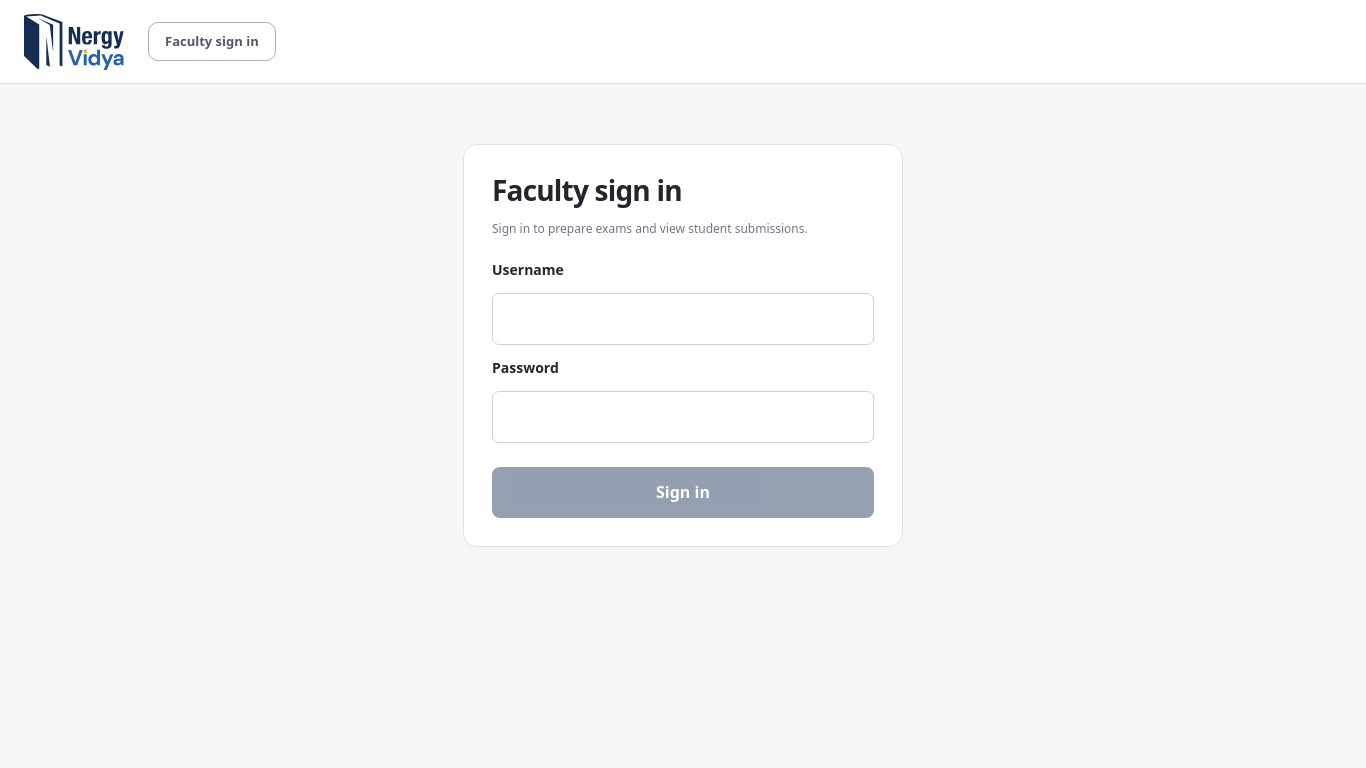
Test: Faculty sign-in UI › does not request private records until signed in, displays the profile and refresh text, and returns to sign-in after logout
Type "teacher" into the field labelled "Username".
click(683, 319); type("teacher")  # box top-left (492, 293), bottom-right (874, 345)
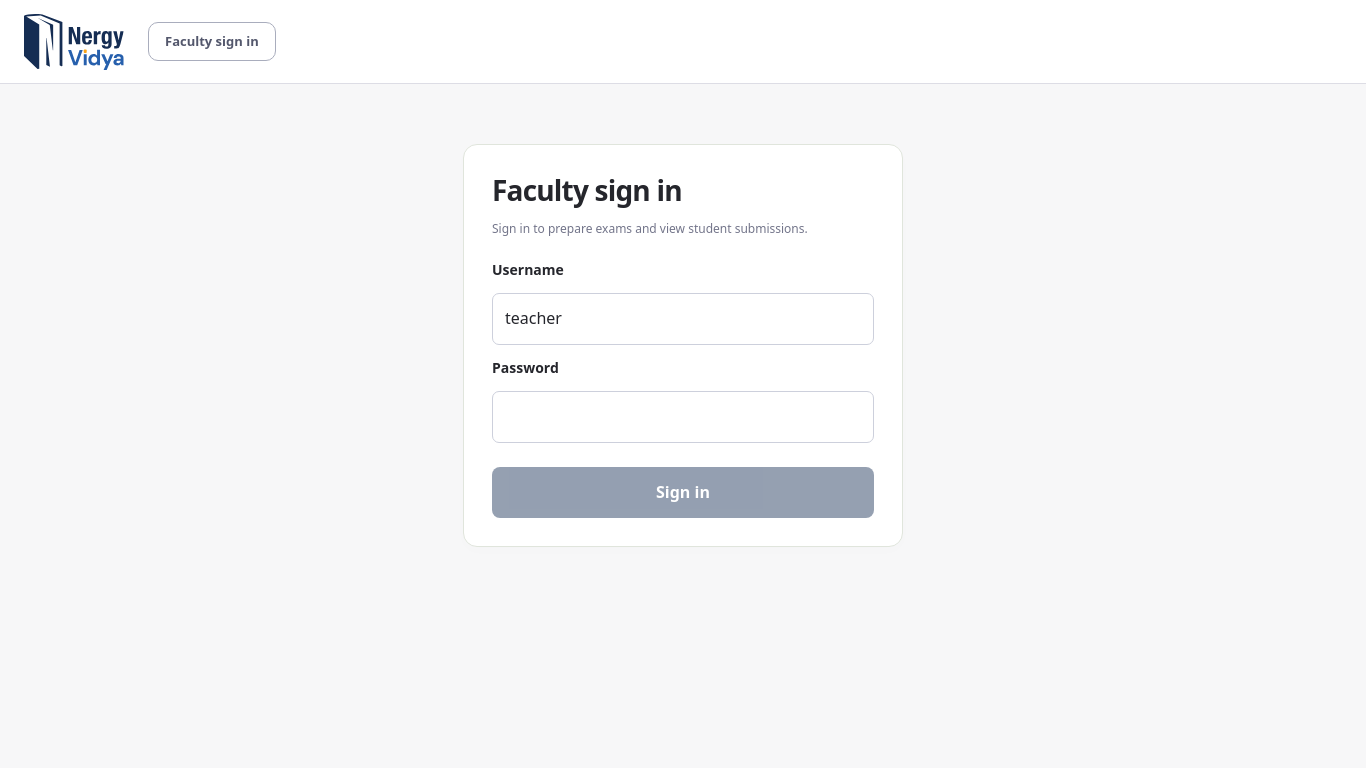
Type "test-password" into the password field labelled "Password".
click(683, 417); type("test-password")  # box top-left (492, 391), bottom-right (874, 443)
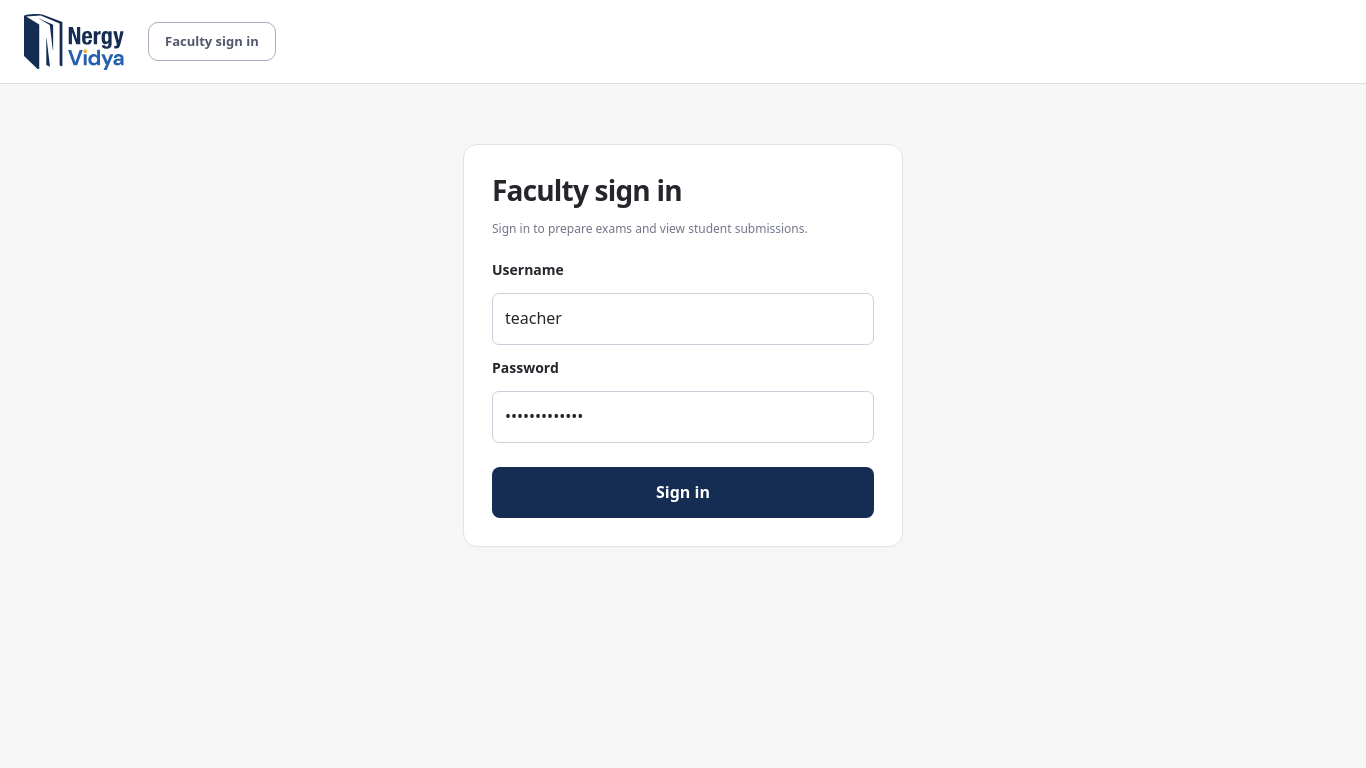
Click the button "Sign in".
click(683, 492)  # box top-left (492, 467), bottom-right (874, 518)
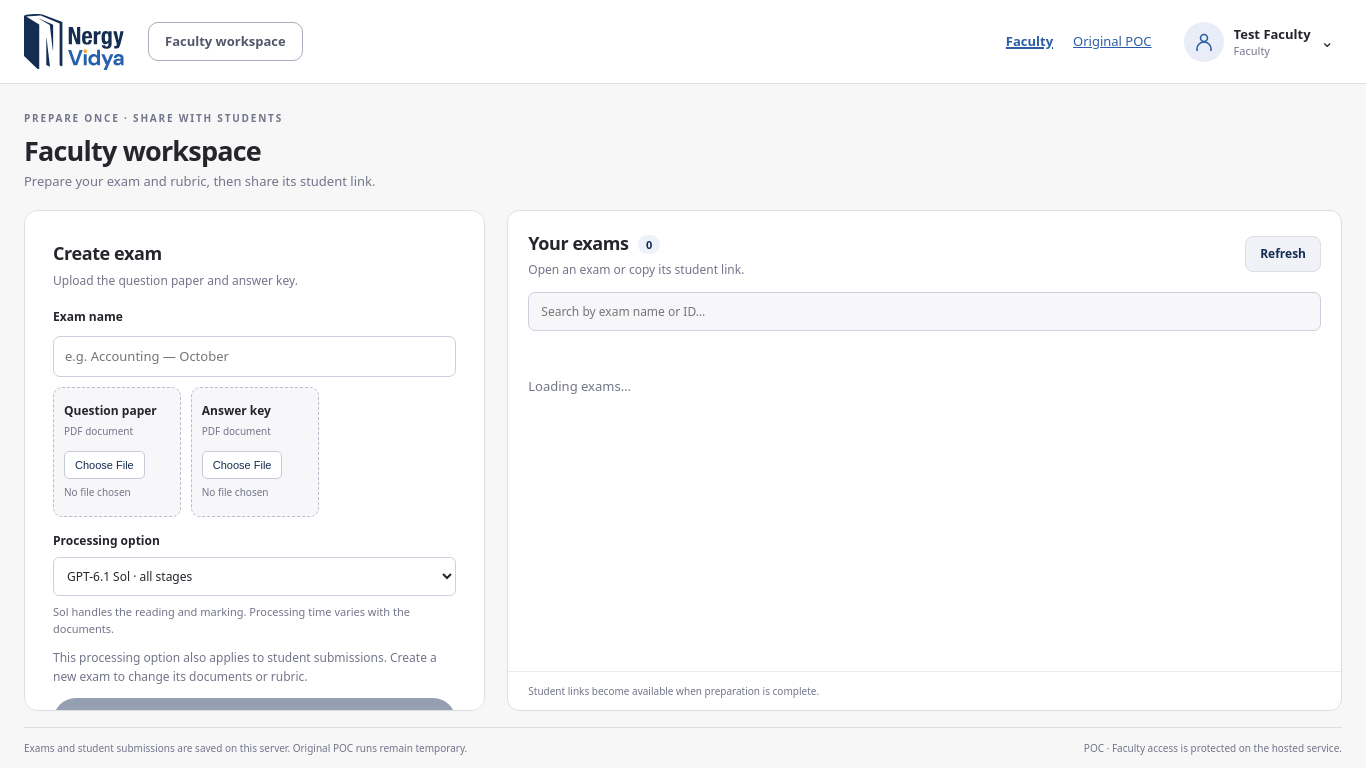
Now the heading "Faculty workspace" is shown, box top-left (24, 132), bottom-right (261, 169)
Now the button with aria-label "Refresh exams" reads "Refresh"
Click the button with aria-label "Refresh exams".
click(1283, 254)  # box top-left (1245, 236), bottom-right (1321, 272)
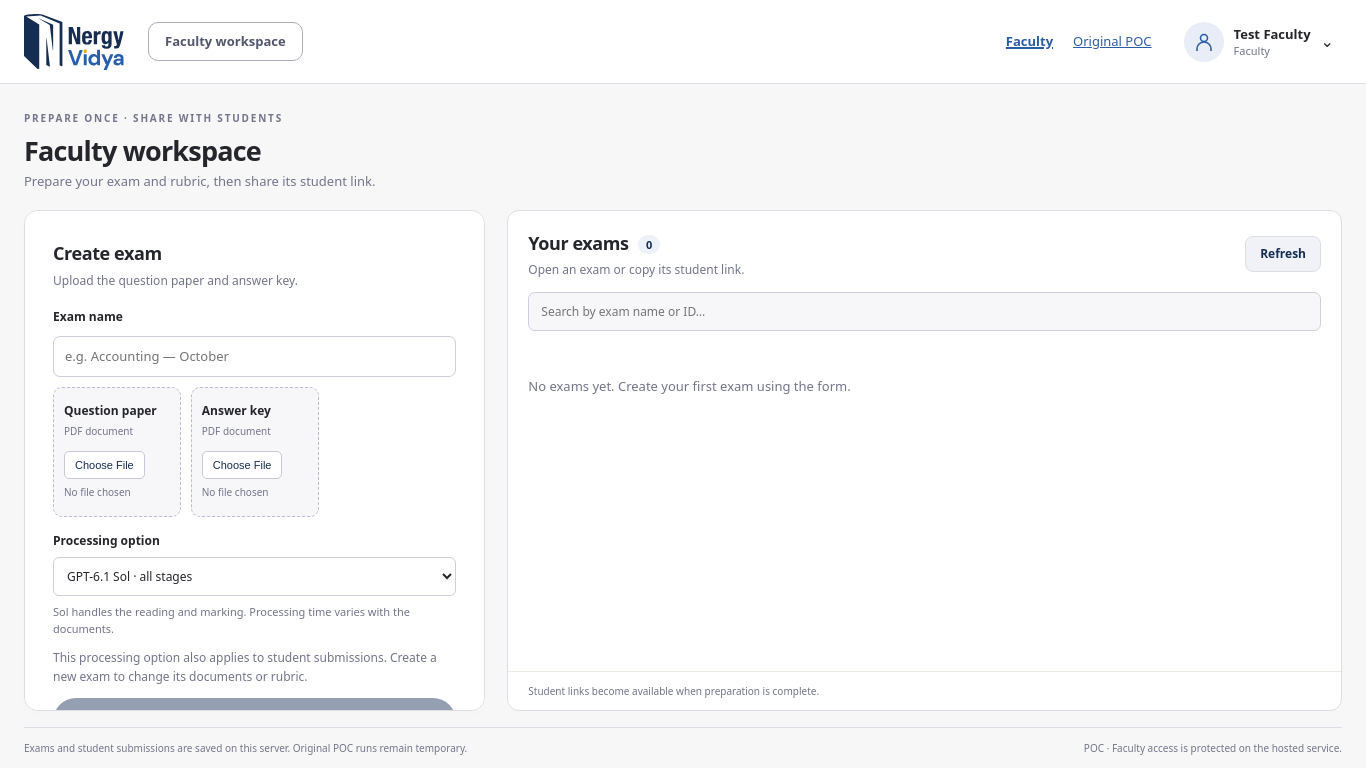
Click the button with aria-label "Faculty profile: Test Faculty".
click(1259, 42)  # box top-left (1176, 16), bottom-right (1342, 68)
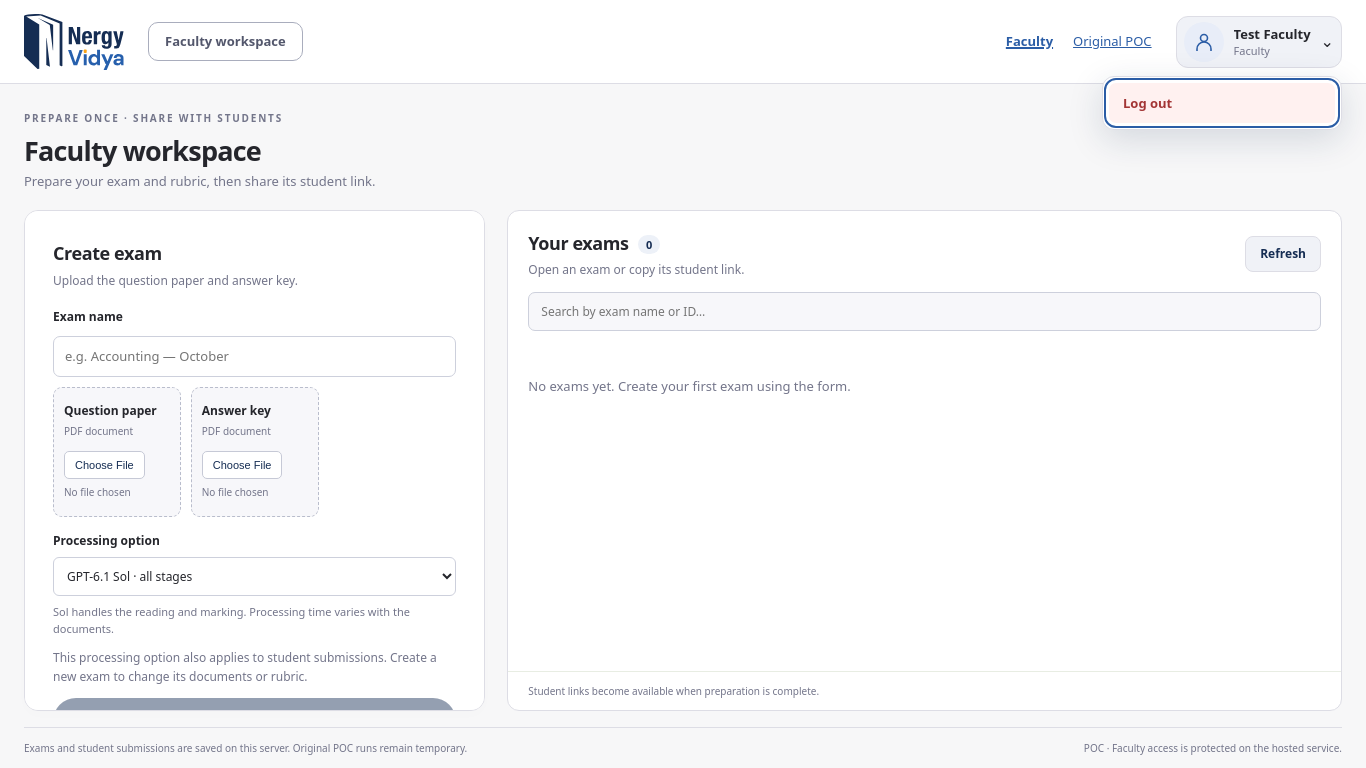
Click the menu item "Log out".
click(1222, 103)  # box top-left (1109, 82), bottom-right (1335, 123)
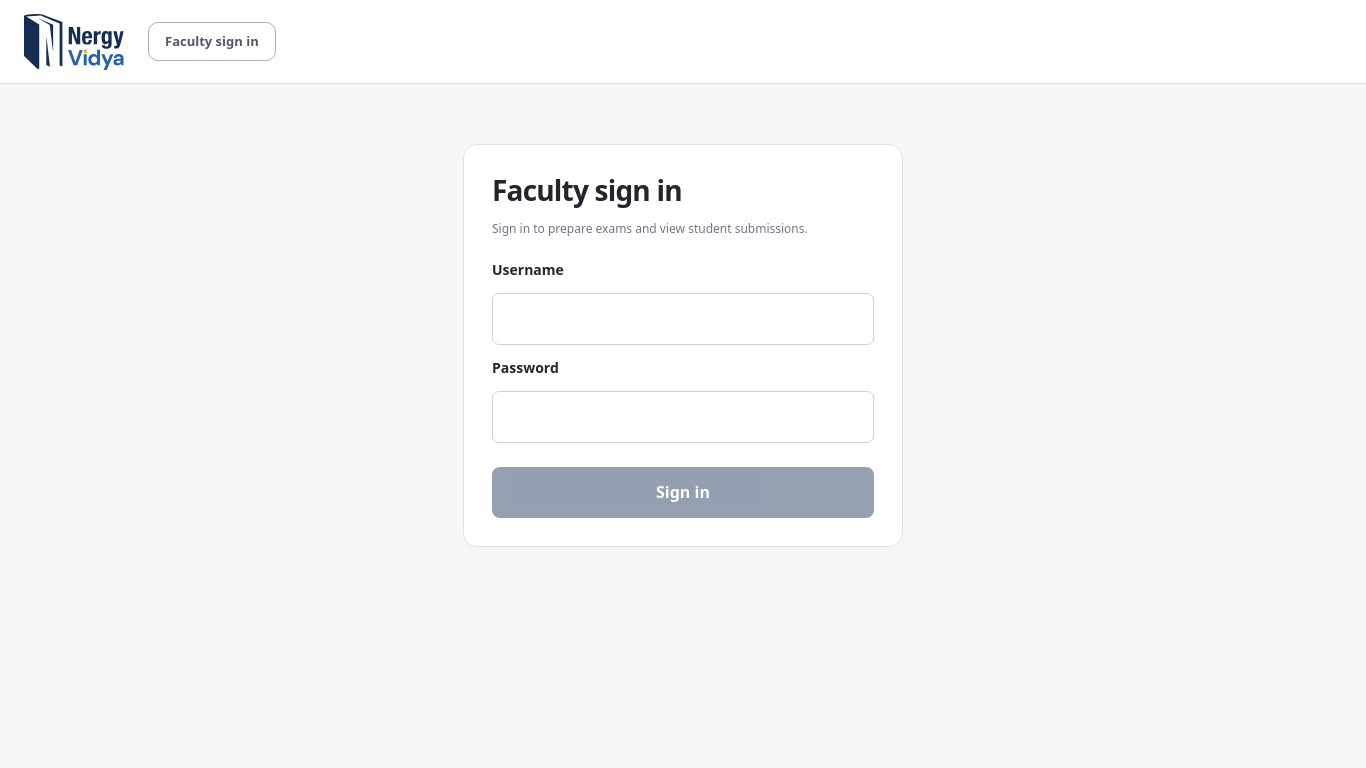
Now the field labelled "Username" is empty, box top-left (492, 293), bottom-right (874, 345)
Now the password field labelled "Password" is empty, box top-left (492, 391), bottom-right (874, 443)
Now the link "Faculty workspace" is gone
